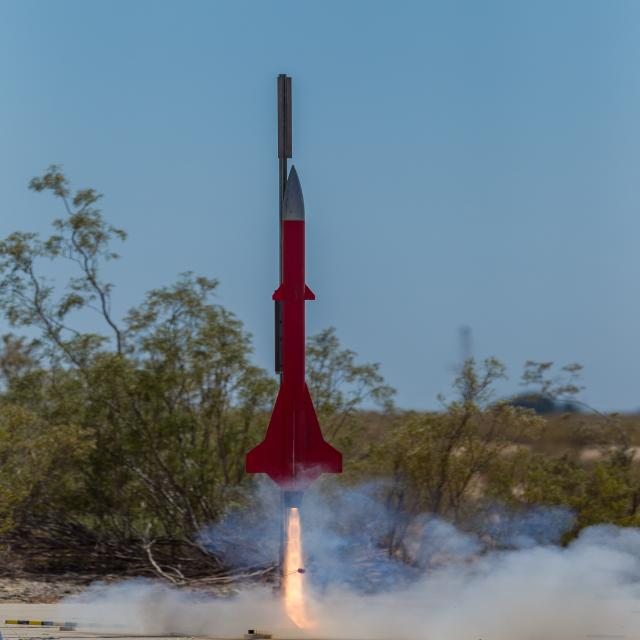Rocket: (245, 166, 344, 511)
